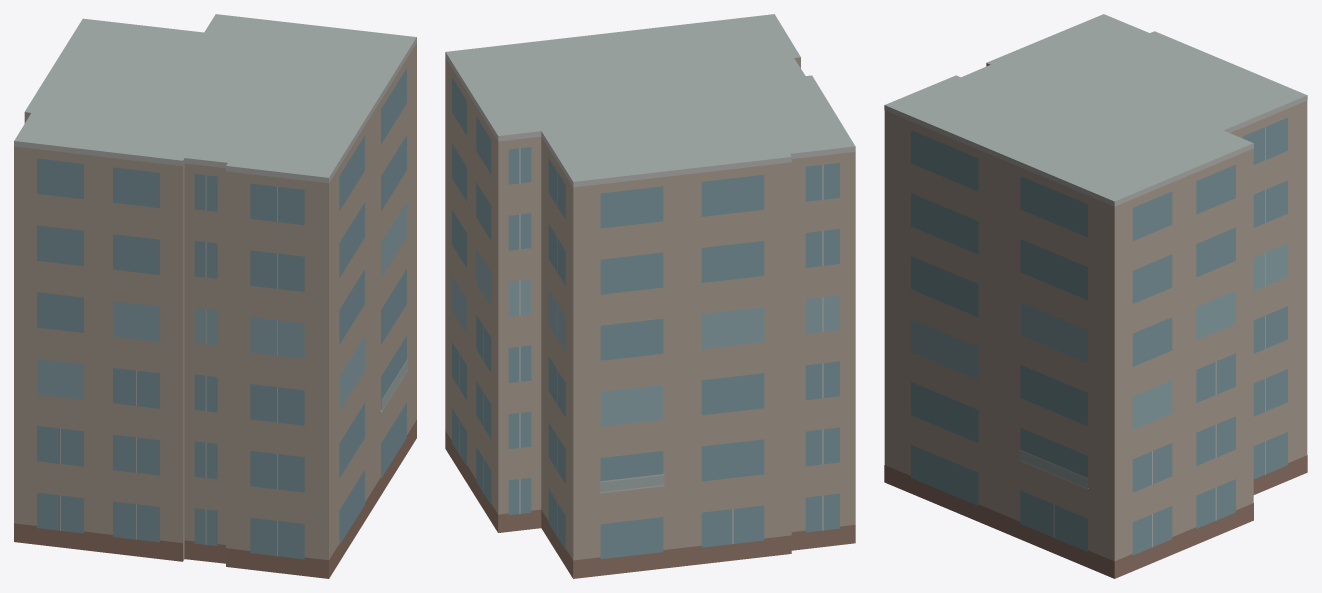
File: survey-upis-32674070.glb
The picture shows the model from 3 angles, left to right: view 1: azimuth 30°, elevation 25°; view 2: azimuth 150°, elevation 25°; view 3: azimuth 270°, elevation 25°; orthographic projection. The views are drawn at different scales.
Parts seen in each view (by area): view 1: survey-upis-32674070.tmp; view 2: survey-upis-32674070.tmp; view 3: survey-upis-32674070.tmp.
Part boxes in pixels (left/top/right/bottom): survey-upis-32674070.tmp: left=14, top=14, right=416, bottom=578; survey-upis-32674070.tmp: left=445, top=14, right=855, bottom=578; survey-upis-32674070.tmp: left=884, top=14, right=1307, bottom=578.
Bounding box in the file's own units: 18.98 × 17.8 × 18.09.
